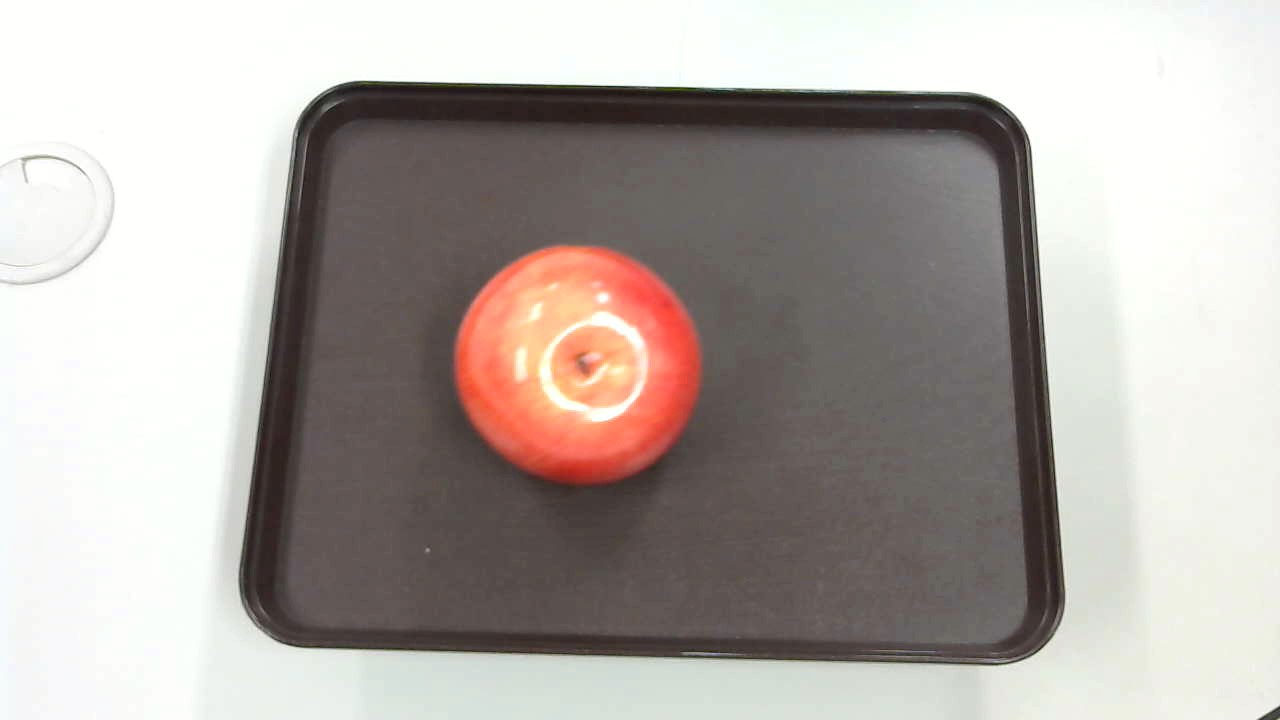red apple: (437, 237, 722, 491)
